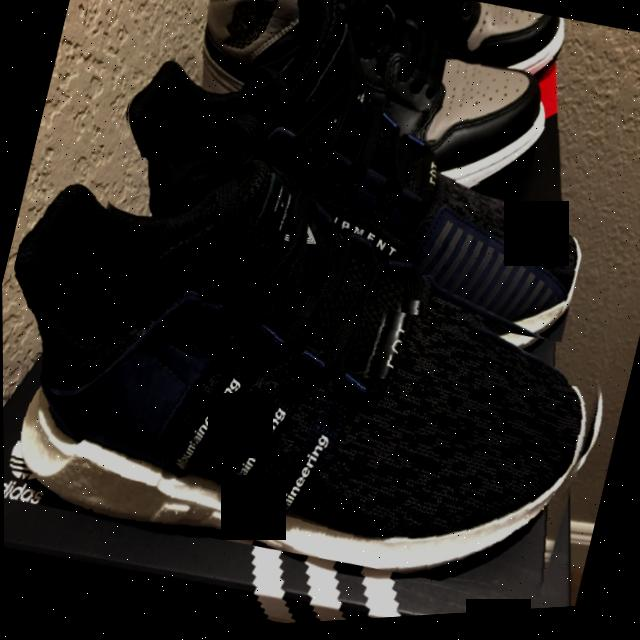shoe: (1, 90, 640, 636), (89, 0, 635, 371), (166, 0, 572, 224)
